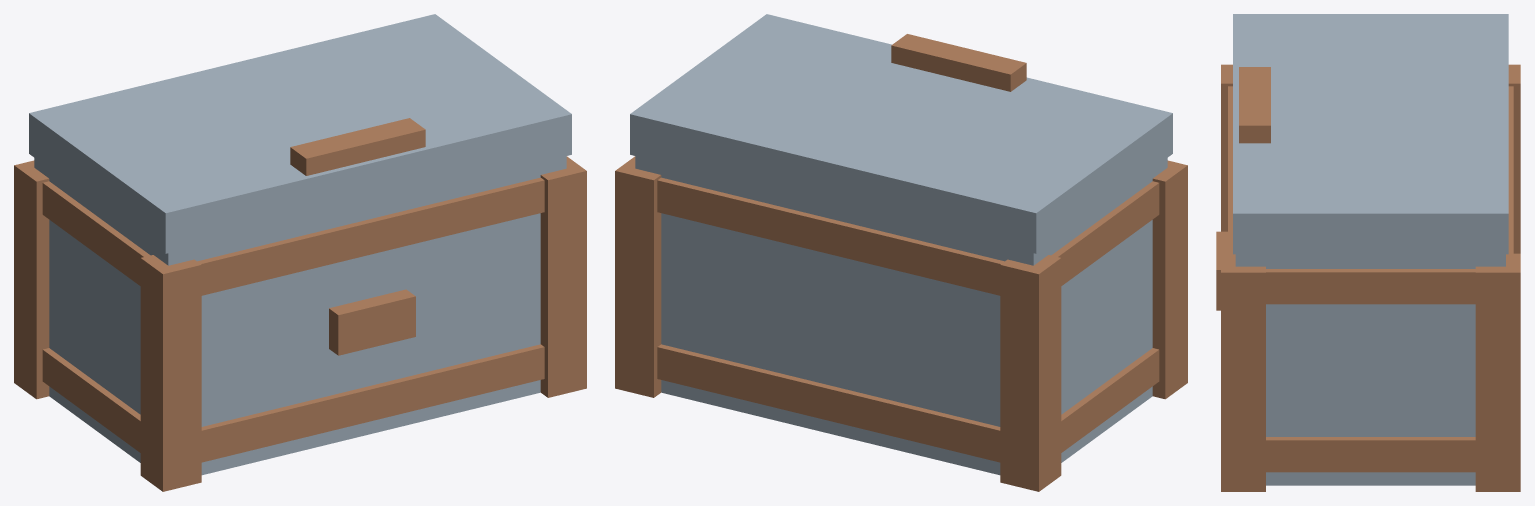
The model's file is wipe-day-survival-island-tool-crate-f4cd1c97__27450.glb.
3 views of the same model, side by side, from view 1: azimuth 30°, elevation 25°; view 2: azimuth 150°, elevation 25°; view 3: azimuth 270°, elevation 25° (orthographic).
Parts seen in each view (by area): view 1: tool-crate, lid/metal, lid/rust; view 2: tool-crate, lid/metal, lid/rust; view 3: tool-crate, lid/metal, lid/rust.
Boxes of the visible parts, left/top/right/bottom form: tool-crate: left=14, top=156, right=586, bottom=491; lid/metal: left=29, top=14, right=571, bottom=253; lid/rust: left=290, top=118, right=425, bottom=175; tool-crate: left=615, top=156, right=1187, bottom=491; lid/metal: left=630, top=14, right=1172, bottom=253; lid/rust: left=891, top=34, right=1026, bottom=91; tool-crate: left=1216, top=64, right=1520, bottom=491; lid/metal: left=1233, top=14, right=1508, bottom=254; lid/rust: left=1239, top=67, right=1270, bottom=143.
Size of the model in its own units: 0.766 by 0.5 by 0.473.
